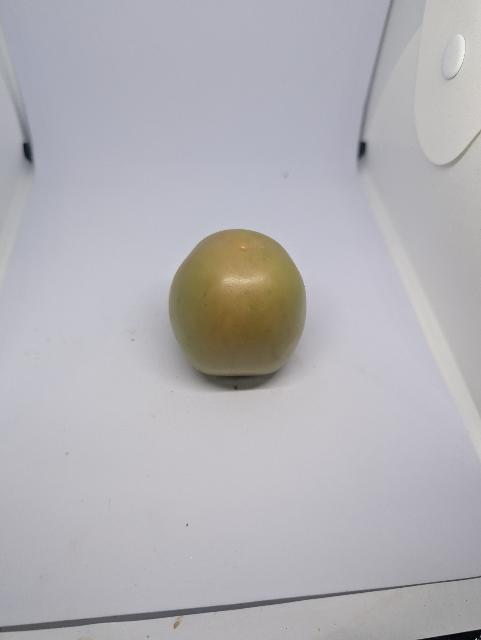breaker: (169, 229, 307, 376)
